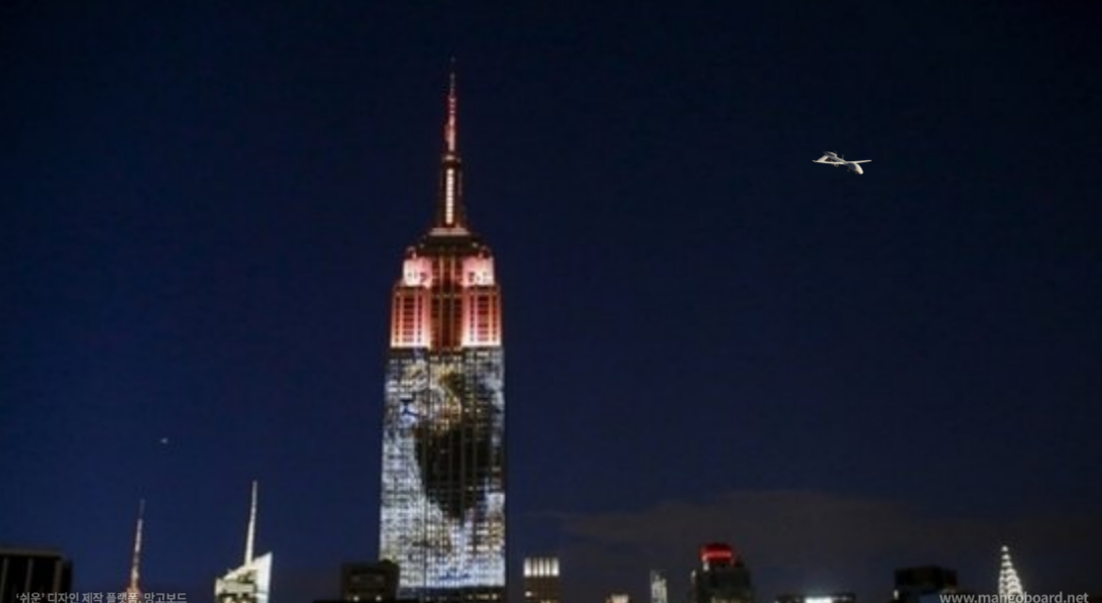military drone: (811, 150, 872, 175)
